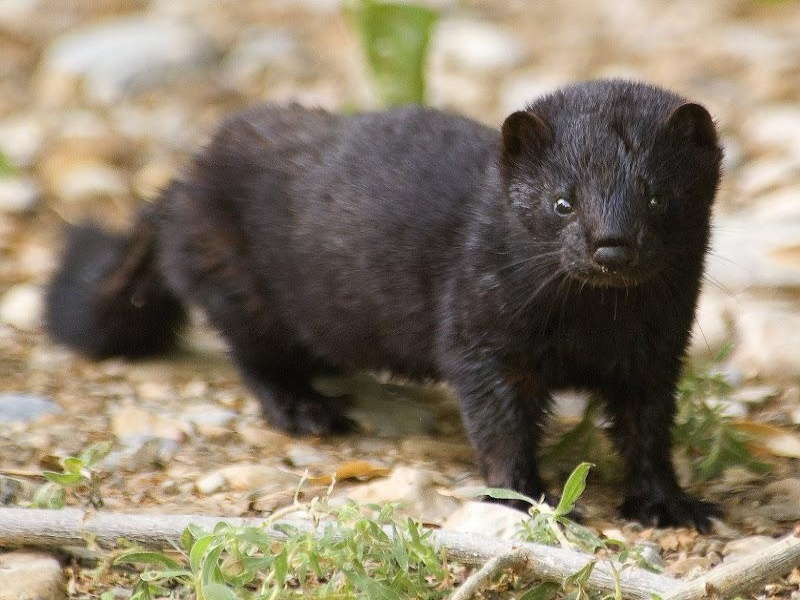minkish: (39, 77, 733, 538)
